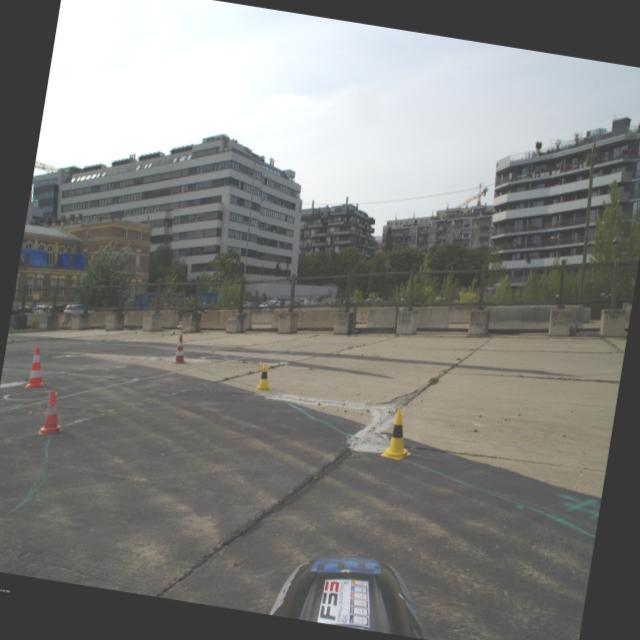large_orange_cone: (24, 346, 50, 391), (172, 334, 190, 366)
orange_cone: (38, 389, 68, 438)
yellow_cone: (380, 408, 417, 462), (255, 362, 276, 392)
